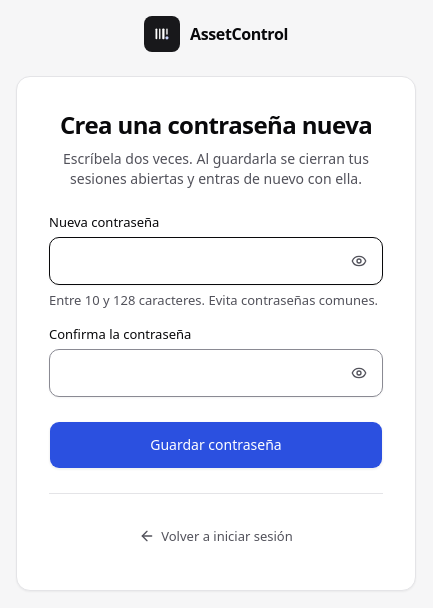
Scenario: /restablecer: la pantalla › cada campo se puede mostrar y ocultar
Later steps or results of the test are not shown.
Click the button named "Mostrar la nueva contraseña": click(359, 260) [335,236,383,284]
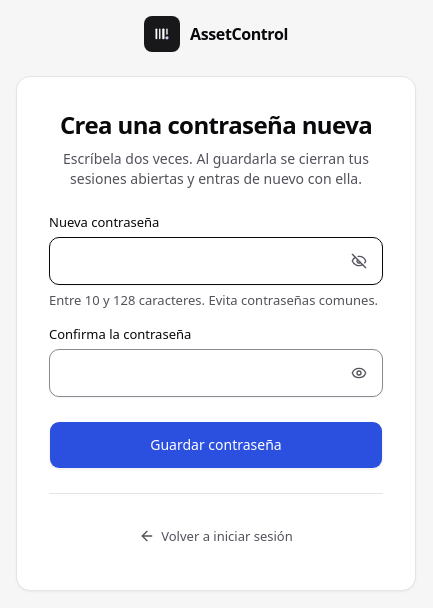
expect the button named "Ocultar la nueva contraseña" is pressed: met, box [335,236,383,284]
